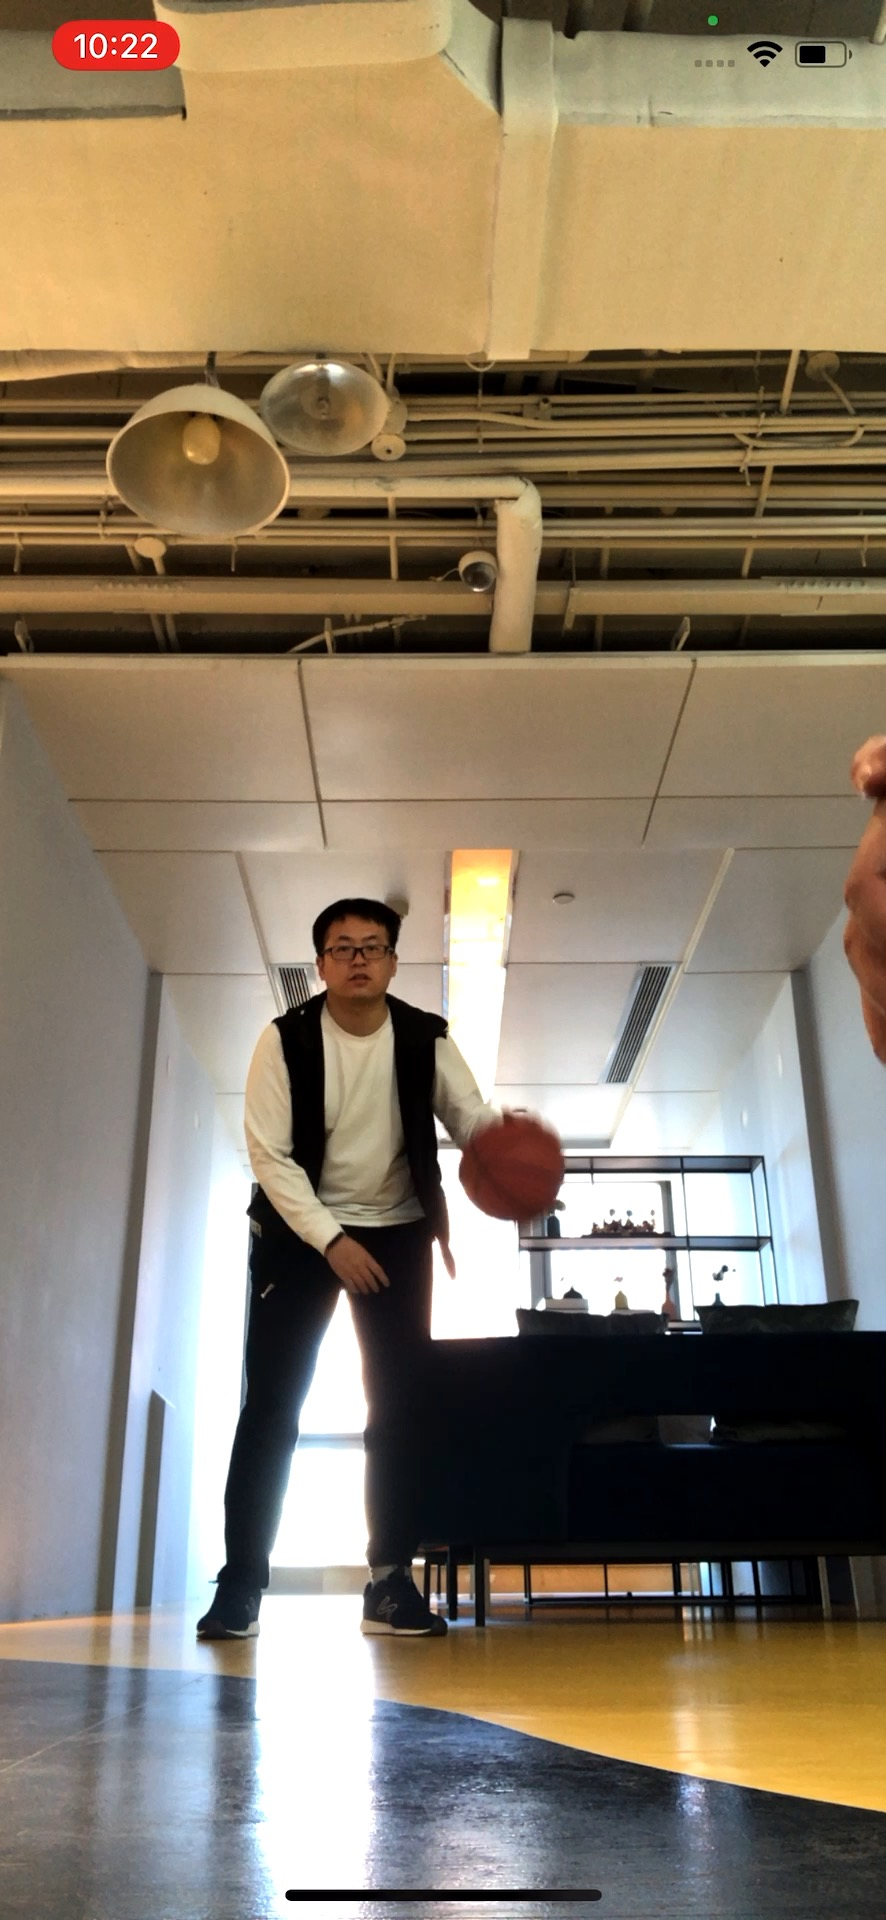ball: (463, 1119, 565, 1220)
